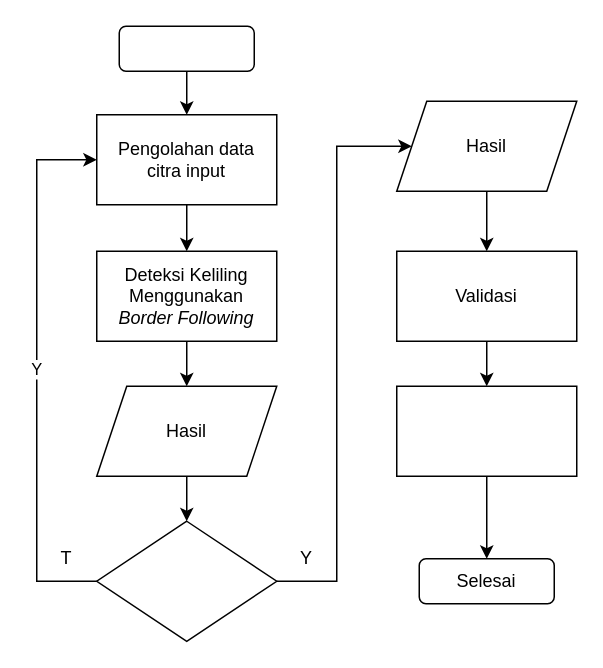
The diagram is 603 pixels wide and 668 high, and some of its shapes have lost their labels. Each missing label, with the centre of its shape:
Mulai: the point at 186,48
Output: the point at 486,430
Simpan Hasil: the point at 186,580
